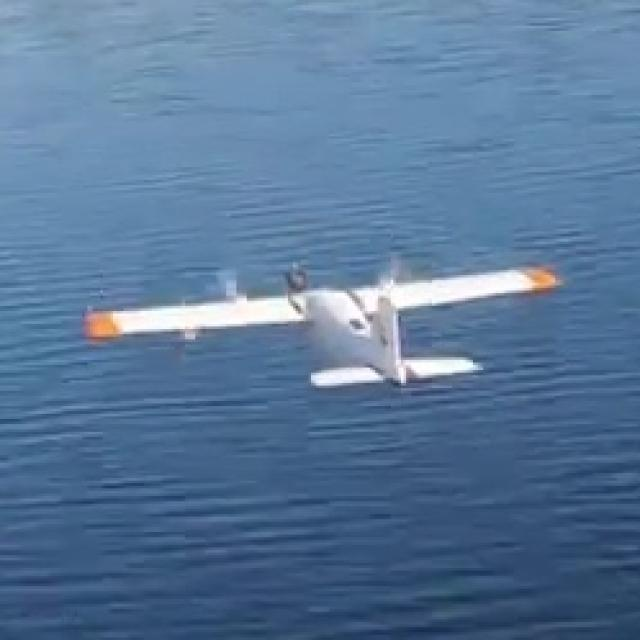iha: (80, 247, 563, 396)
